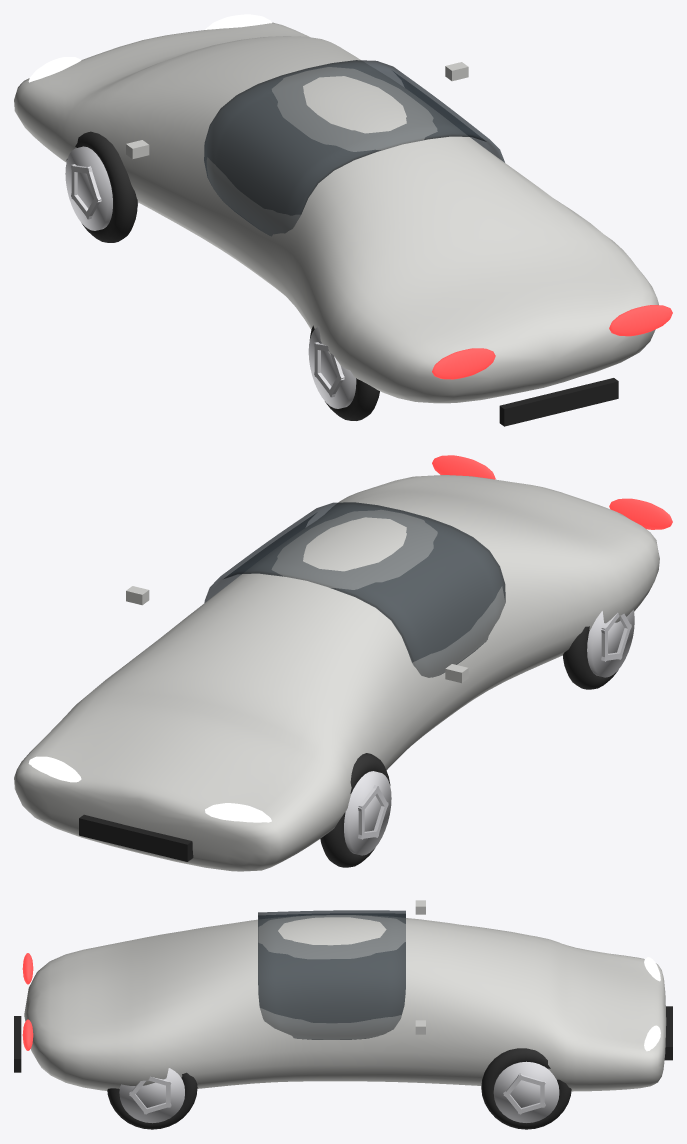
Rendered from honda_nsx-r_1992.glb.
The picture shows the model from 3 angles, top to bottom: view 1: azimuth 30°, elevation 25°; view 2: azimuth 150°, elevation 25°; view 3: azimuth 270°, elevation 25°; orthographic projection. The views are drawn at different scales.
Parts seen in each view (by area): view 1: Body, Glass, Tyre_FR, Diffuser, Rim_FR, Rim_RR, Taillight_R, Taillight_L, Tyre_RR, Headlight_L; view 2: Body, Glass, FrontIntake, Rim_FR, Tyre_FR, Rim_RR, Tyre_RR, Taillight_R, Taillight_L, Headlight_R, Headlight_L; view 3: Body, Glass, Rim_FL, Tyre_FL, Rim_RL, Tyre_RL, Diffuser, FrontIntake.
Part boxes in pixels (x1,y1,x2,y2): Body: [14, 22, 658, 403]; Glass: [204, 60, 504, 236]; Tyre_FR: [66, 131, 137, 242]; Diffuser: [499, 378, 618, 426]; Rim_FR: [65, 146, 138, 230]; Rim_RR: [308, 326, 356, 408]; Taillight_R: [432, 348, 495, 379]; Taillight_L: [609, 305, 672, 336]; Tyre_RR: [309, 325, 379, 420]; Headlight_L: [205, 14, 271, 29]; Body: [14, 475, 659, 871]; Glass: [204, 502, 505, 677]; FrontIntake: [79, 814, 193, 861]; Rim_FR: [344, 771, 391, 855]; Tyre_FR: [320, 753, 390, 867]; Rim_RR: [587, 609, 634, 677]; Tyre_RR: [562, 626, 618, 689]; Taillight_R: [609, 498, 672, 529]; Taillight_L: [432, 455, 495, 479]; Headlight_R: [205, 803, 271, 822]; Headlight_L: [28, 756, 81, 782]; Body: [24, 915, 666, 1091]; Glass: [258, 910, 405, 1039]; Rim_FL: [493, 1061, 559, 1122]; Tyre_FL: [481, 1048, 571, 1129]; Rim_RL: [119, 1068, 184, 1123]; Tyre_RL: [107, 1072, 197, 1129]; Diffuser: [14, 1016, 21, 1072]; FrontIntake: [664, 1006, 672, 1060].
Bounding box in the file's own units: 2.02 × 1.15 × 4.45.
